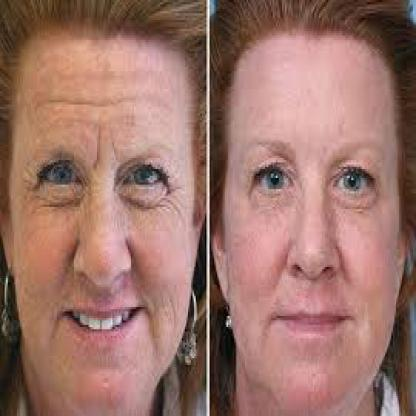darkspot: (338, 125, 408, 403), (253, 130, 335, 283), (379, 19, 406, 125), (312, 284, 335, 408), (243, 53, 257, 76)
